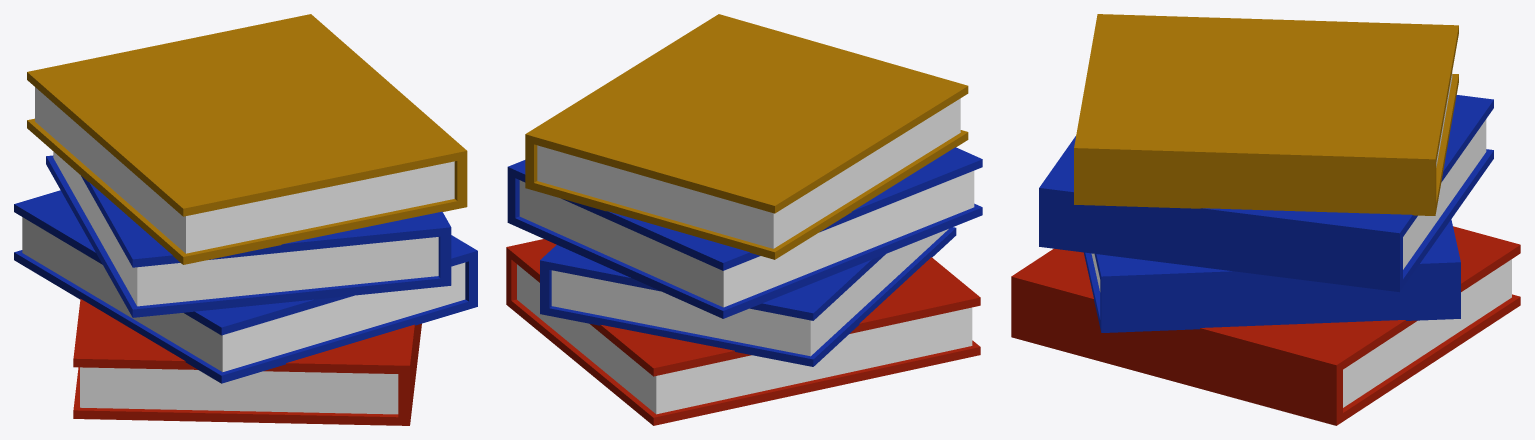
Rendered from bukuShelf4.obj.
3 renders of one model, left to right at view 1: azimuth 30°, elevation 25°; view 2: azimuth 150°, elevation 25°; view 3: azimuth 270°, elevation 25°, orthographic. The views are drawn at different scales.
Parts seen in each view (by area): view 1: Book.003_Cube.028; view 2: Book.003_Cube.028; view 3: Book.003_Cube.028.
Part boxes in pixels (bbox=[...]): Book.003_Cube.028: bbox=[14, 14, 477, 425]; Book.003_Cube.028: bbox=[506, 14, 982, 425]; Book.003_Cube.028: bbox=[1011, 14, 1520, 425].
Size of the model in its own units: 0.6738 by 0.3492 by 0.693.
